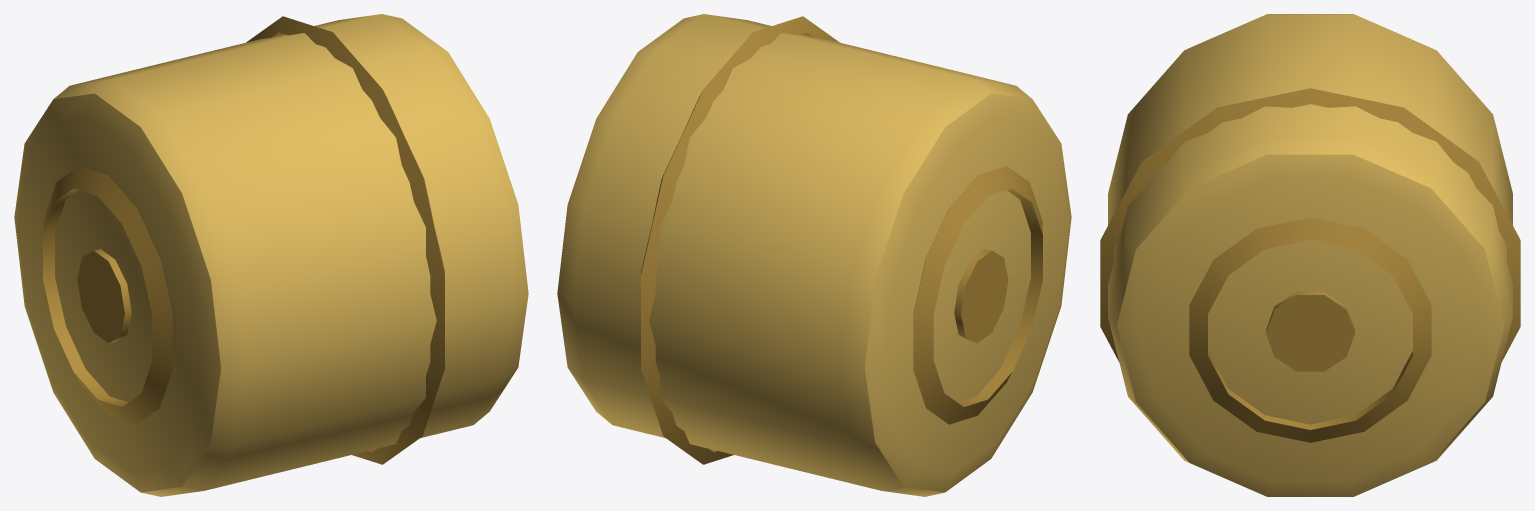
File: HayBale.fbx
3 renders of one model, left to right at view 1: azimuth 30°, elevation 25°; view 2: azimuth 150°, elevation 25°; view 3: azimuth 270°, elevation 25°, orthographic. The views are drawn at different scales.
Parts seen in each view (by area): view 1: HayBale; view 2: HayBale; view 3: HayBale.
Part boxes in pixels (x1,y1,x2,y2): HayBale: (14, 14, 528, 496); HayBale: (557, 14, 1071, 496); HayBale: (1100, 14, 1520, 496).
Bounding box in the file's own units: 1.02 × 1.17 × 1.14.
